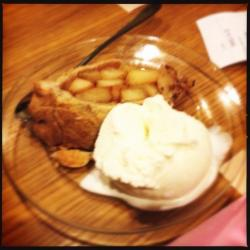apple_pie: (26, 52, 202, 152)
icecream: (90, 96, 225, 216)
